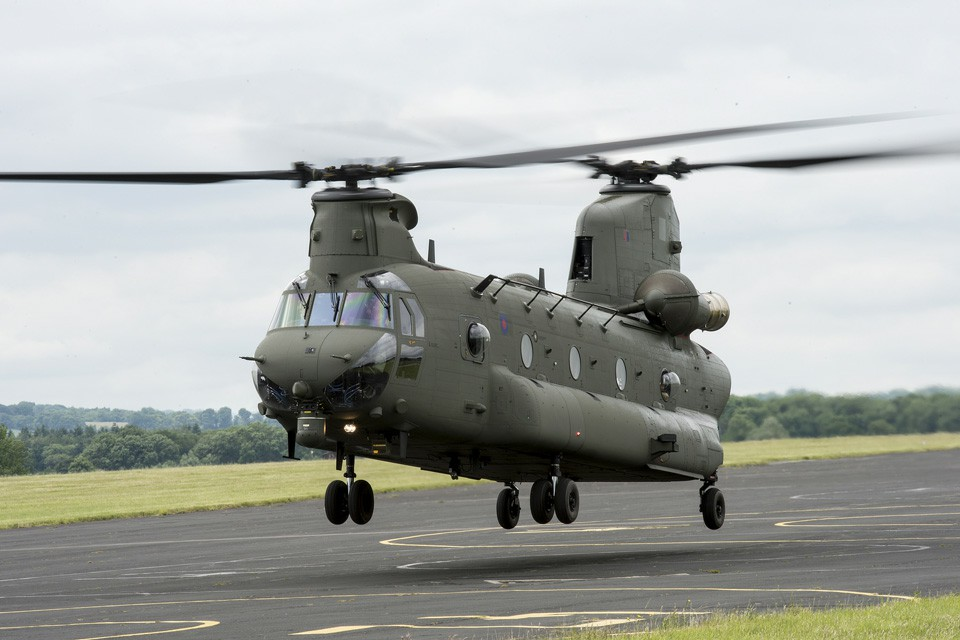chinook: (109, 119, 912, 540)
